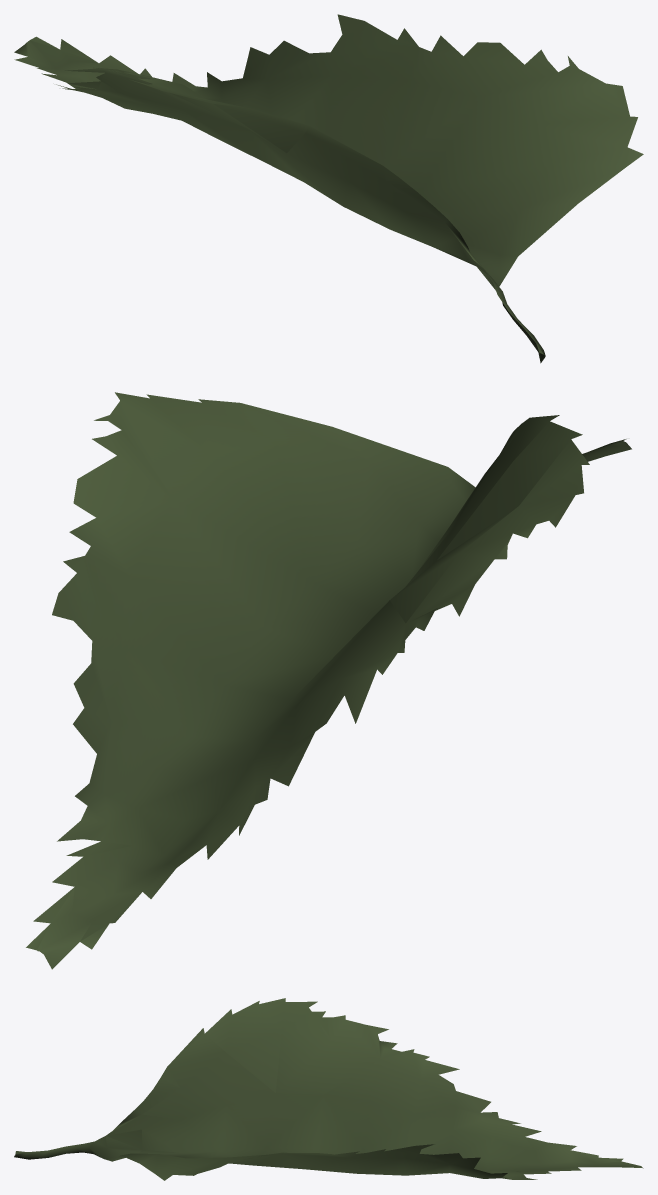
Rendered from trees-leaves-elm-leaf_v3.glb.
3 views of the same model, one above another, from view 1: azimuth 30°, elevation 25°; view 2: azimuth 150°, elevation 25°; view 3: azimuth 270°, elevation 25° (orthographic). The views are drawn at different scales.
Visible parts, largest first — view 1: Elm Leaf_v3; view 2: Elm Leaf_v3; view 3: Elm Leaf_v3.
Part boxes in pixels (bbox=[...]): Elm Leaf_v3: bbox=[14, 14, 643, 363]; Elm Leaf_v3: bbox=[26, 392, 631, 969]; Elm Leaf_v3: bbox=[14, 998, 643, 1180].
Bounding box in the file's own units: 0.0495 × 0.0229 × 0.1.
